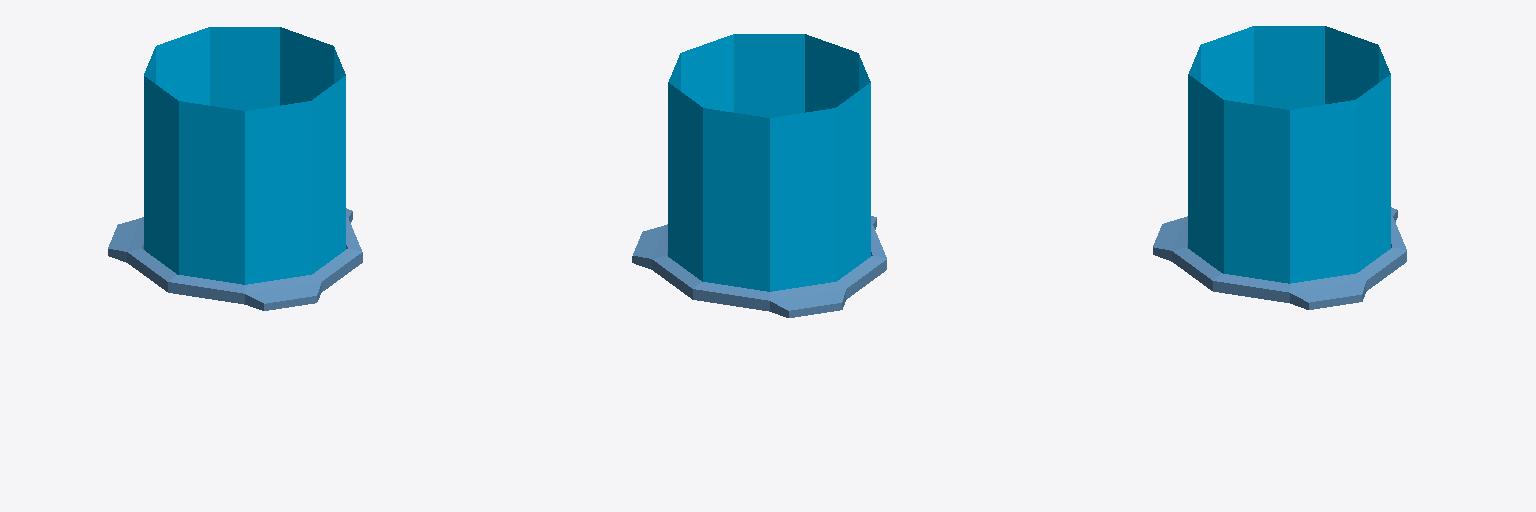
The model's file is portal_blue.obj.
The picture shows the model from 3 angles: view 1: azimuth 30°, elevation 25°; view 2: azimuth 150°, elevation 25°; view 3: azimuth 270°, elevation 25°; orthographic projection.
Visible parts, largest first — view 1: Cylinder, Oil:Tank; view 2: Cylinder, Oil:Tank; view 3: Cylinder, Oil:Tank.
Part boxes in pixels (x1,y1,x2,y2): Cylinder: (144, 27, 345, 284); Oil:Tank: (108, 208, 362, 310); Cylinder: (668, 34, 870, 291); Oil:Tank: (632, 216, 886, 317); Cylinder: (1188, 26, 1390, 283); Oil:Tank: (1153, 207, 1406, 309).
Size of the model in its own units: 215 by 344 by 213.